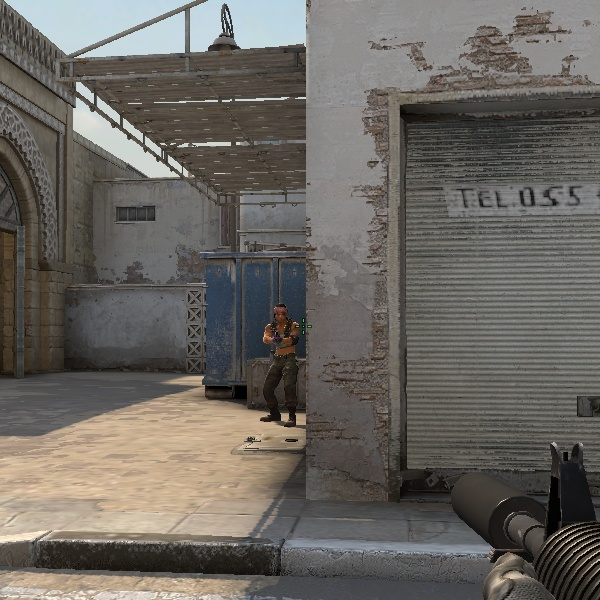t_body: (260, 304, 306, 426)
t_head: (272, 304, 289, 327)
